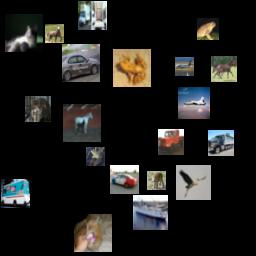airplane: (178, 87, 210, 119), (175, 57, 194, 76)
automobile: (62, 44, 100, 82), (110, 165, 139, 194)
bird: (176, 165, 211, 200)
cat: (5, 14, 43, 52), (25, 96, 51, 122)
deer: (147, 171, 166, 190)
dog: (74, 214, 112, 252)
frog: (113, 49, 151, 87), (197, 18, 219, 40), (86, 147, 105, 166)
ship: (133, 195, 168, 230)
truck: (1, 179, 30, 208), (78, 1, 107, 30), (208, 130, 234, 156), (158, 129, 184, 155)
